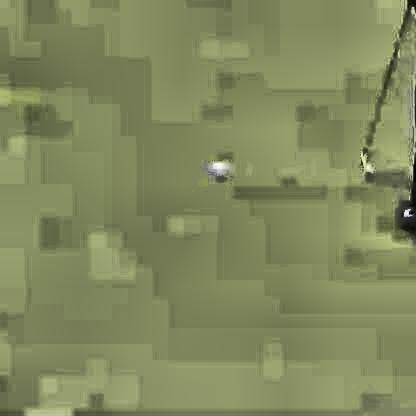golfball: (206, 158, 228, 178)
